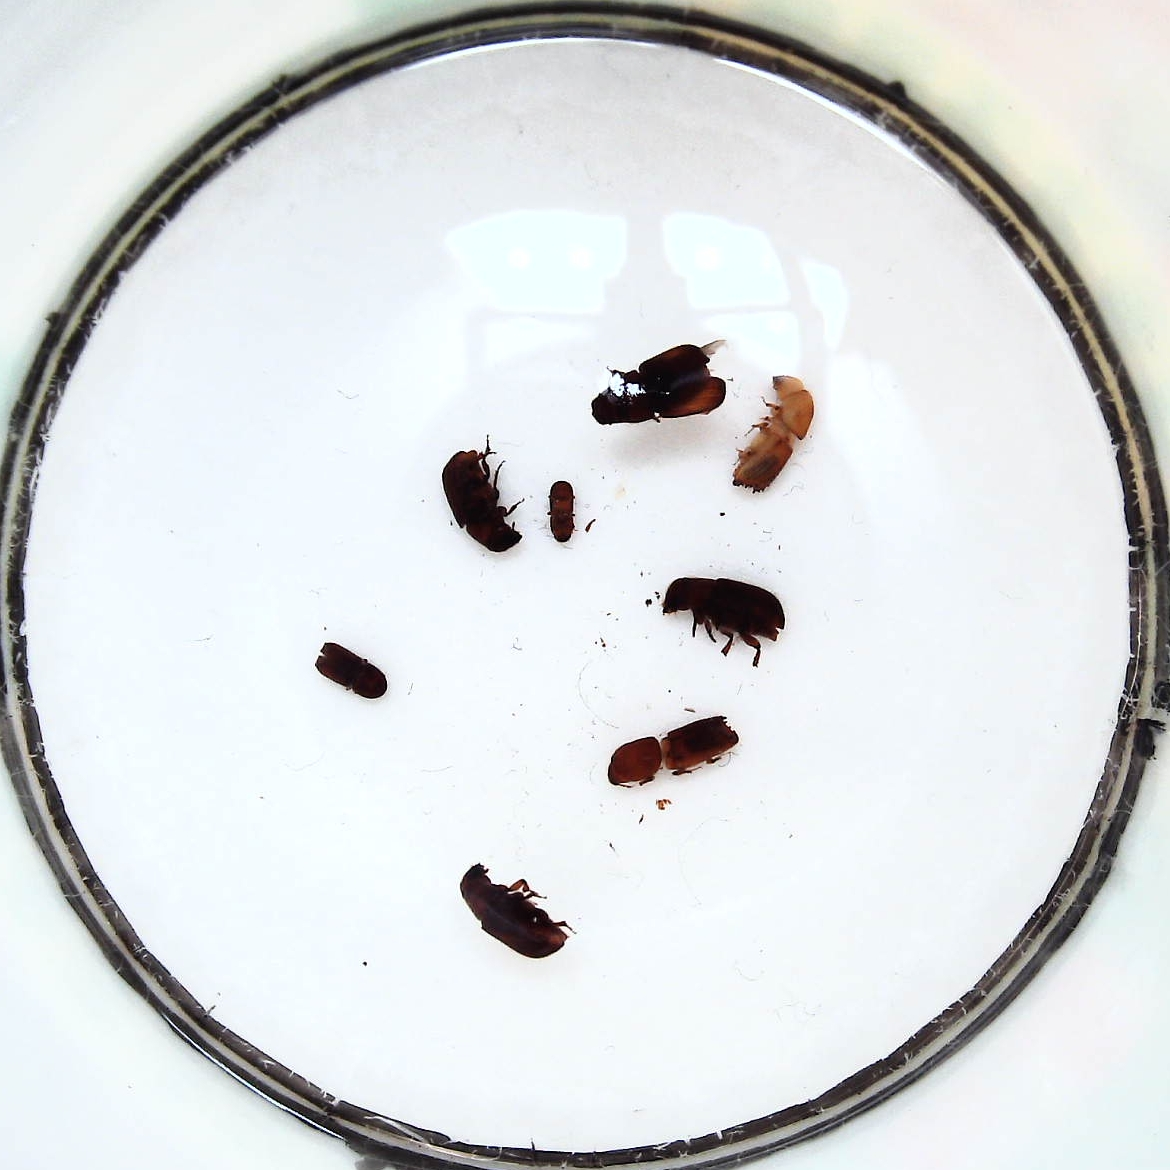Boerner: (732, 372, 819, 495), (604, 712, 740, 789)
Leconte: (457, 856, 571, 959), (591, 343, 727, 427), (660, 574, 786, 663), (439, 448, 524, 556)
Linnaeus: (312, 636, 391, 704)
acuminatus: (545, 476, 577, 545)
